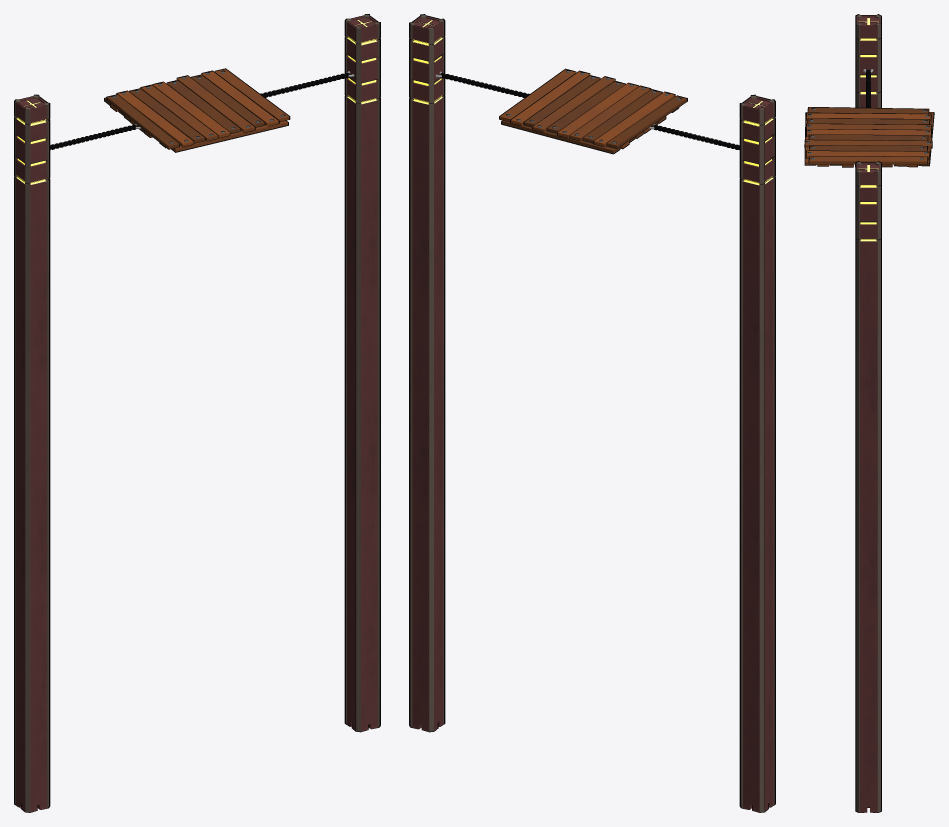
The model's file is Escenario_2.fbx.
3 views of the same model, side by side, from view 1: azimuth 30°, elevation 25°; view 2: azimuth 150°, elevation 25°; view 3: azimuth 270°, elevation 25° (orthographic). The views are drawn at different scales.
Visible parts, largest first — view 1: Columna_7, Columna_1, Tablero, Columna_6, Columna_8, Tablero2; view 2: Columna_7, Columna_1, Tablero, Columna_8, Columna_6, Tablero2; view 3: Columna_1, Tablero, Columna_7, Columna_6, Tablero2, Columna_8.
Part boxes in pixels (<box>): Columna_7: <box>15,95,48,812</box>; Columna_1: <box>346,14,379,731</box>; Tablero: <box>105,69,289,151</box>; Columna_6: <box>344,14,380,732</box>; Columna_8: <box>14,94,50,812</box>; Tablero2: <box>104,68,290,152</box>; Columna_7: <box>741,95,774,812</box>; Columna_1: <box>410,15,443,731</box>; Tablero: <box>500,69,686,153</box>; Columna_8: <box>739,94,775,812</box>; Columna_6: <box>409,14,445,732</box>; Tablero2: <box>499,68,687,154</box>; Columna_1: <box>856,162,880,812</box>; Tablero: <box>805,107,933,166</box>; Columna_7: <box>856,15,880,107</box>; Columna_6: <box>855,161,881,812</box>; Tablero2: <box>804,107,934,167</box>; Columna_8: <box>855,14,881,107</box>.
Bounding box in the file's own units: 78.35 × 148 × 27.21.
